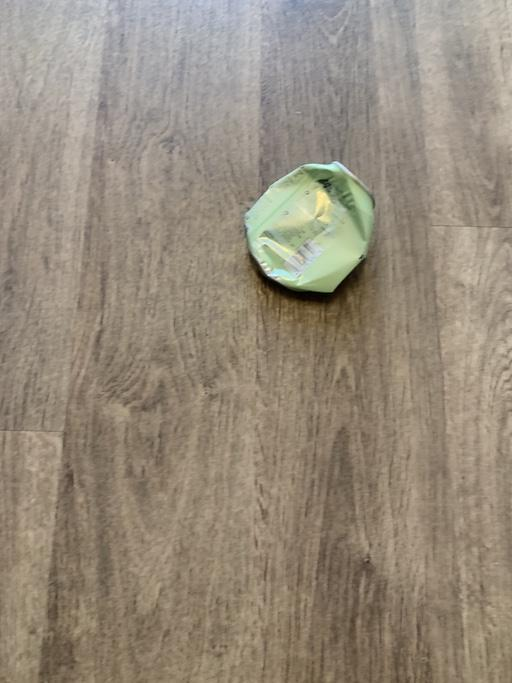Aluminum can: (224, 136, 432, 300)
